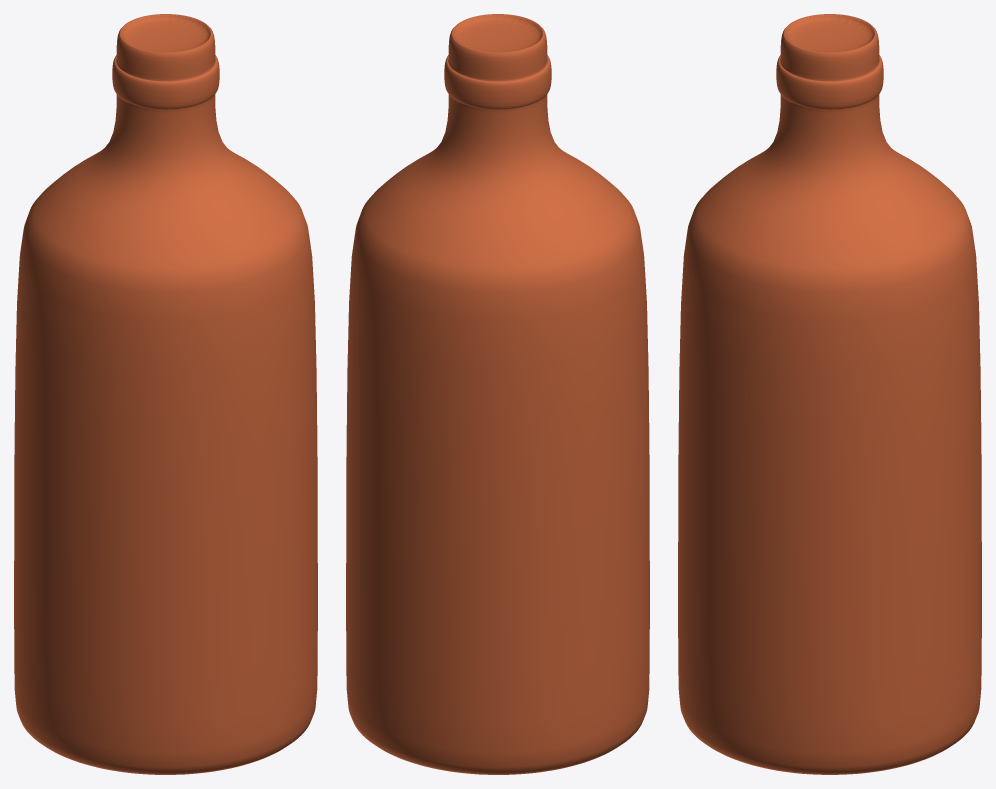
The model's file is Bottle .fbx.
3 views of the same model, side by side, from view 1: azimuth 30°, elevation 25°; view 2: azimuth 150°, elevation 25°; view 3: azimuth 270°, elevation 25° (orthographic).
Visible parts, largest first — view 1: Circle; view 2: Circle; view 3: Circle.
Boxes of the visible parts, box(x1,y1,x2,y2) form: Circle: box(14, 14, 317, 774); Circle: box(346, 14, 649, 774); Circle: box(678, 14, 981, 774).
Size of the model in its own units: 162 by 404 by 162.
